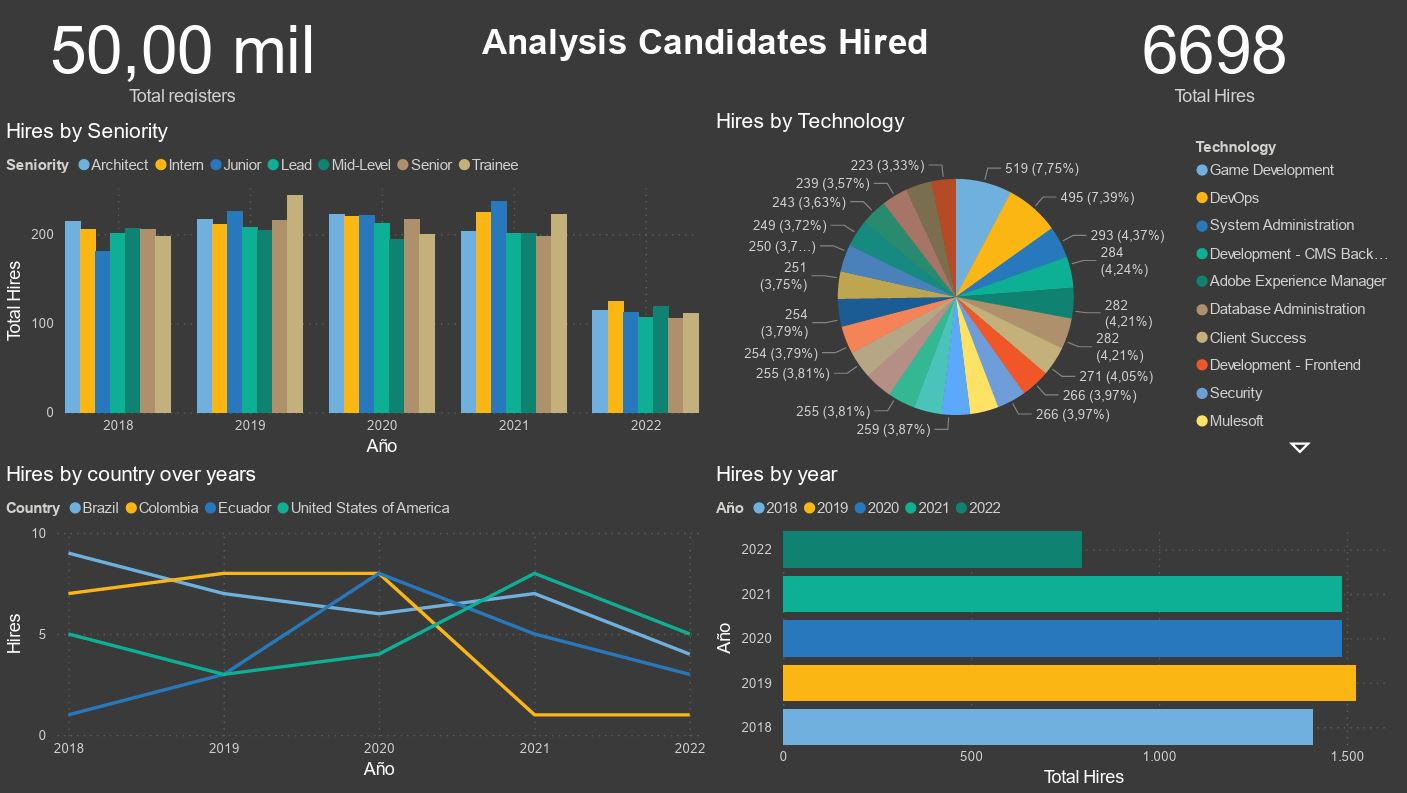

What the dashboard file says about the page in this screenshot:
{"tool":"powerbi","page":{"name":"Página 1","canvas":[1280,720],"ordinal":0},"visuals":[{"type":"pieChart","title":"Hires by Technology","fields":{"Y":["CountNonNull(workshop_1 candidates_hired.Hired)"],"Category":["workshop_1 candidates_hired.Technology"]},"box":[646,98,634,321],"z":0},{"type":"clusteredColumnChart","title":"Hires by Seniority","fields":{"Series":["workshop_1 candidates_hired.Seniority"],"Y":["CountNonNull(workshop_1 candidates_hired.Hired)"],"Category":["workshop_1 candidates_hired.Application Date.Variación.Jerarquía de fechas.Año"]},"box":[0,107,640,312],"z":1000},{"type":"barChart","title":"Hires by year","fields":{"Series":["workshop_1 candidates_hired.Application Date.Variación.Jerarquía de fechas.Año"],"Y":["CountNonNull(workshop_1 candidates_hired.Hired)"],"Category":["workshop_1 candidates_hired.Application Date.Variación.Jerarquía de fechas.Año"]},"box":[645.8,418.9,634.2,301.6],"z":2000},{"type":"lineChart","title":" Hires by country over years","fields":{"Y":["CountNonNull(workshop_1 candidates_hired.Hired)"],"Category":["workshop_1 candidates_hired.Application Date.Variación.Jerarquía de fechas.Año"],"Series":["workshop_1 candidates_hired.Country"]},"box":[0,418.9,645.8,292.8],"z":3000},{"type":"card","fields":{"Values":["CountNonNull(workshop_1 candidates_hired.Hired)"]},"box":[929,0,351,98],"z":4000},{"type":"card","fields":{"Values":["CountNonNull(workshop_1 candidates_hired.Hired)"]},"box":[0,0,331,98],"z":5000},{"type":"textbox","box":[433,14,426,69],"z":6000}]}

Visuals, with their boxes in screenshot pixels (x1, y1, x2, y2), scaled from the page's 1280x720 canvas onto the 1407x793 screenshot:
"Hires by Technology" pieChart: box(710, 108, 1406, 461)
"Hires by Seniority" clusteredColumnChart: box(0, 118, 704, 461)
"Hires by year" barChart: box(710, 461, 1406, 792)
" Hires by country over years" lineChart: box(0, 461, 710, 784)
card - CountNonNull(workshop_1 candidates_hired.Hired): box(1021, 0, 1406, 108)
card - CountNonNull(workshop_1 candidates_hired.Hired): box(0, 0, 364, 108)
textbox: box(476, 15, 944, 91)
